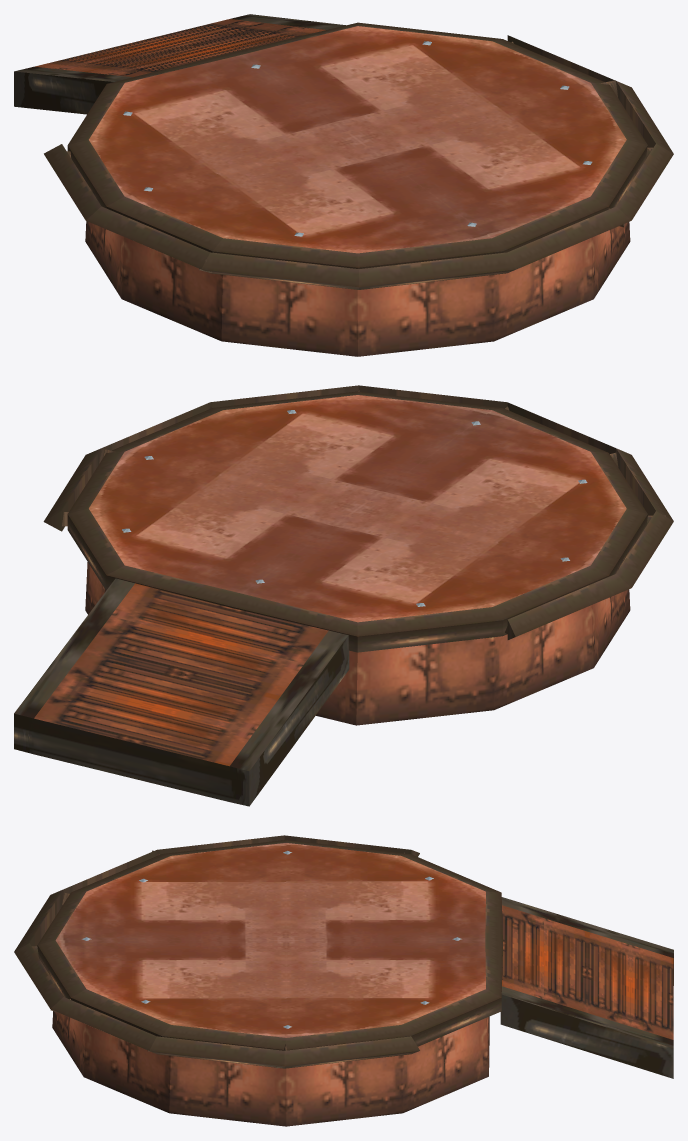
The model's file is C1SMTUNHELIPADH.obj.
3 views of the same model, one above another, from view 1: azimuth 30°, elevation 25°; view 2: azimuth 150°, elevation 25°; view 3: azimuth 270°, elevation 25° (orthographic). The views are drawn at different scales.
Visible parts, largest first — view 1: Node 0; view 2: Node 0; view 3: Node 0.
Boxes of the visible parts, x1,y1,x2,y2 form: Node 0: (14, 14, 673, 356); Node 0: (14, 385, 673, 806); Node 0: (14, 835, 673, 1126).
Size of the model in its own units: 21.87 by 4.09 by 26.69.
Materials: 3 (3 with a texture image).
